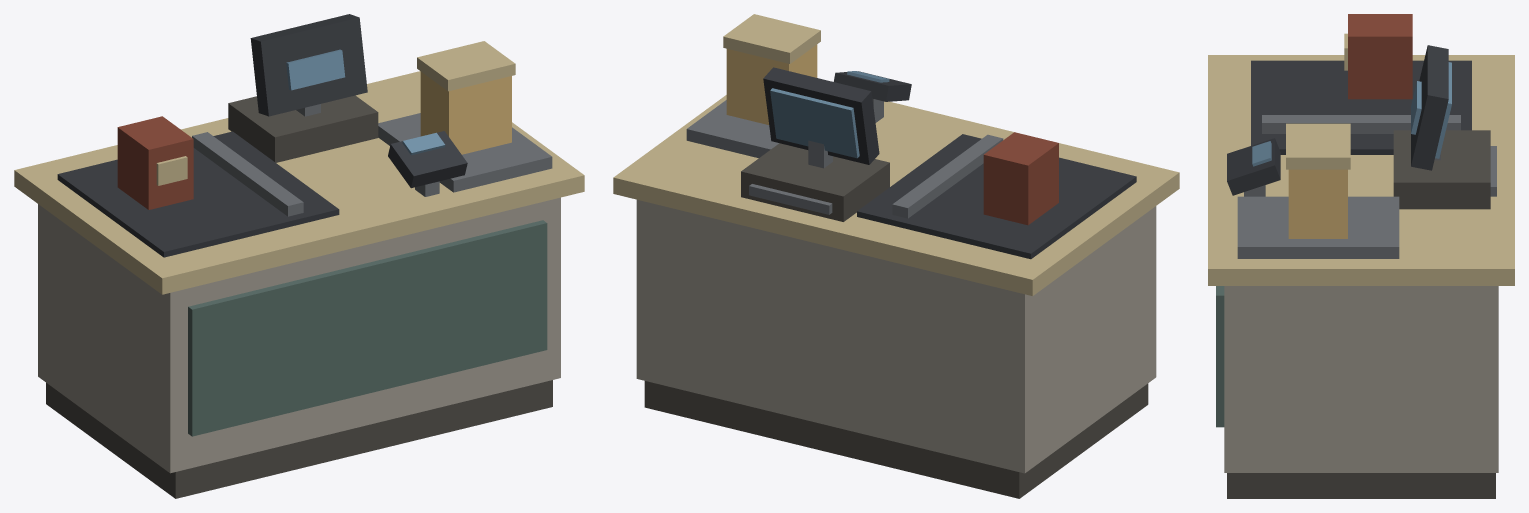
File: prop-checkout.glb
3 views of the same model, side by side, from view 1: azimuth 30°, elevation 25°; view 2: azimuth 150°, elevation 25°; view 3: azimuth 270°, elevation 25° (orthographic). The views are drawn at different scales.
Parts seen in each view (by area): view 1: checkout; view 2: checkout; view 3: checkout.
Part boxes in pixels (bbox=[...]): checkout: bbox=[14, 14, 584, 498]; checkout: bbox=[613, 14, 1179, 498]; checkout: bbox=[1208, 14, 1514, 498].
Bounding box in the file's own units: 0.94 × 0.7275 × 0.57.
